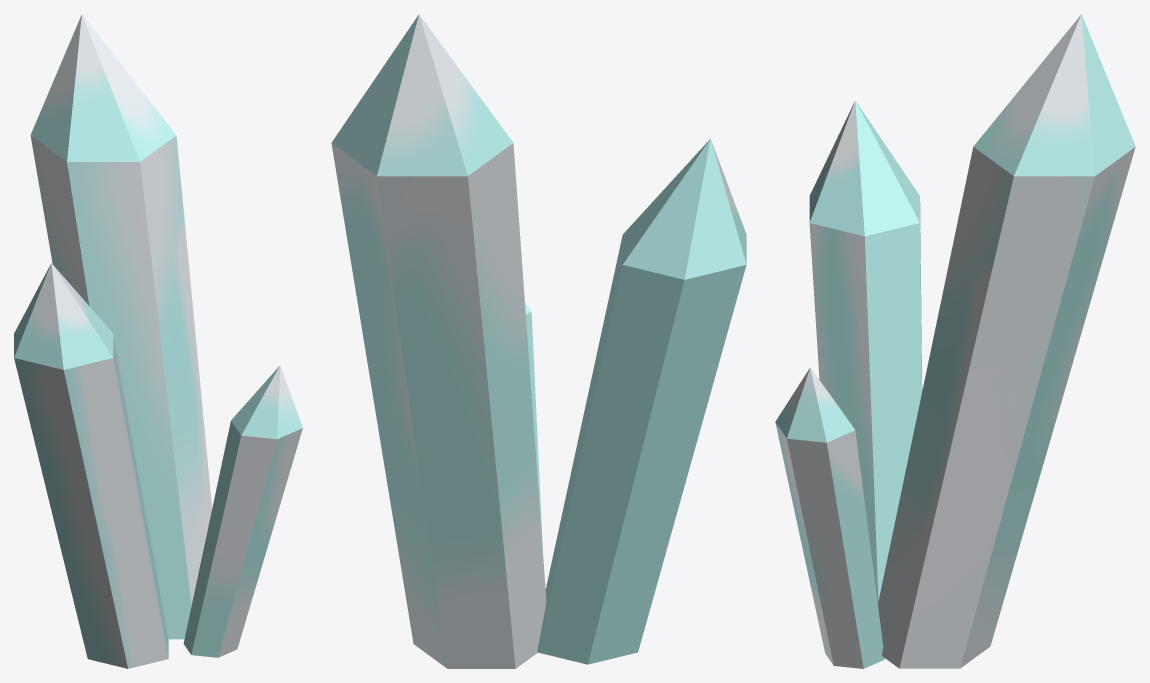
File: gelo-2.fbx
The picture shows the model from 3 angles, left to right: view 1: azimuth 30°, elevation 25°; view 2: azimuth 150°, elevation 25°; view 3: azimuth 270°, elevation 25°; orthographic projection. The views are drawn at different scales.
Parts seen in each view (by area): view 1: gelo-2; view 2: gelo-2; view 3: gelo-2.
Part boxes in pixels (x1=…): gelo-2: x1=14, y1=14, x2=302, y2=668; gelo-2: x1=331, y1=14, x2=746, y2=668; gelo-2: x1=775, y1=14, x2=1135, y2=668.
Size of the model in its own units: 140 by 289 by 150.
